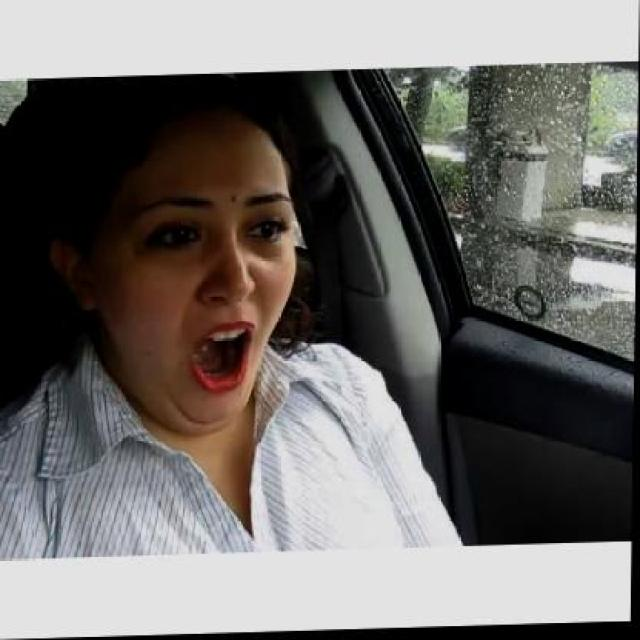inattentif: (38, 73, 300, 444)
